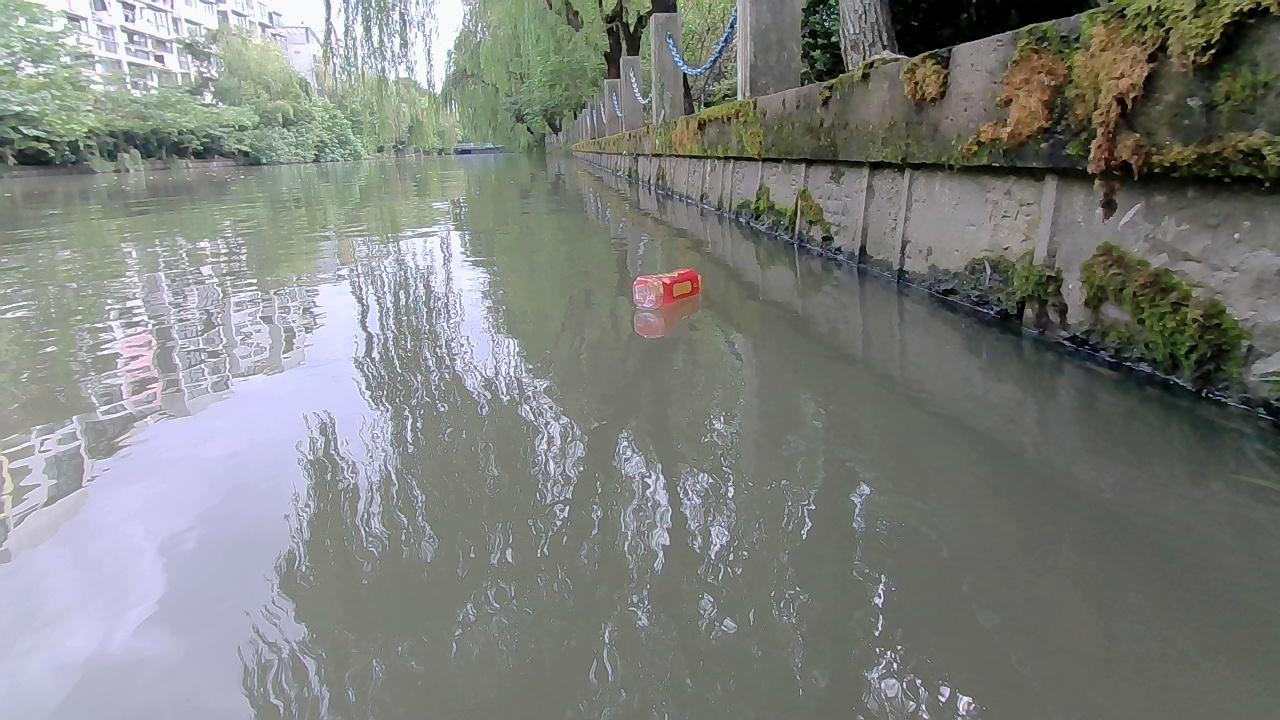bottle: (630, 268, 702, 310)
